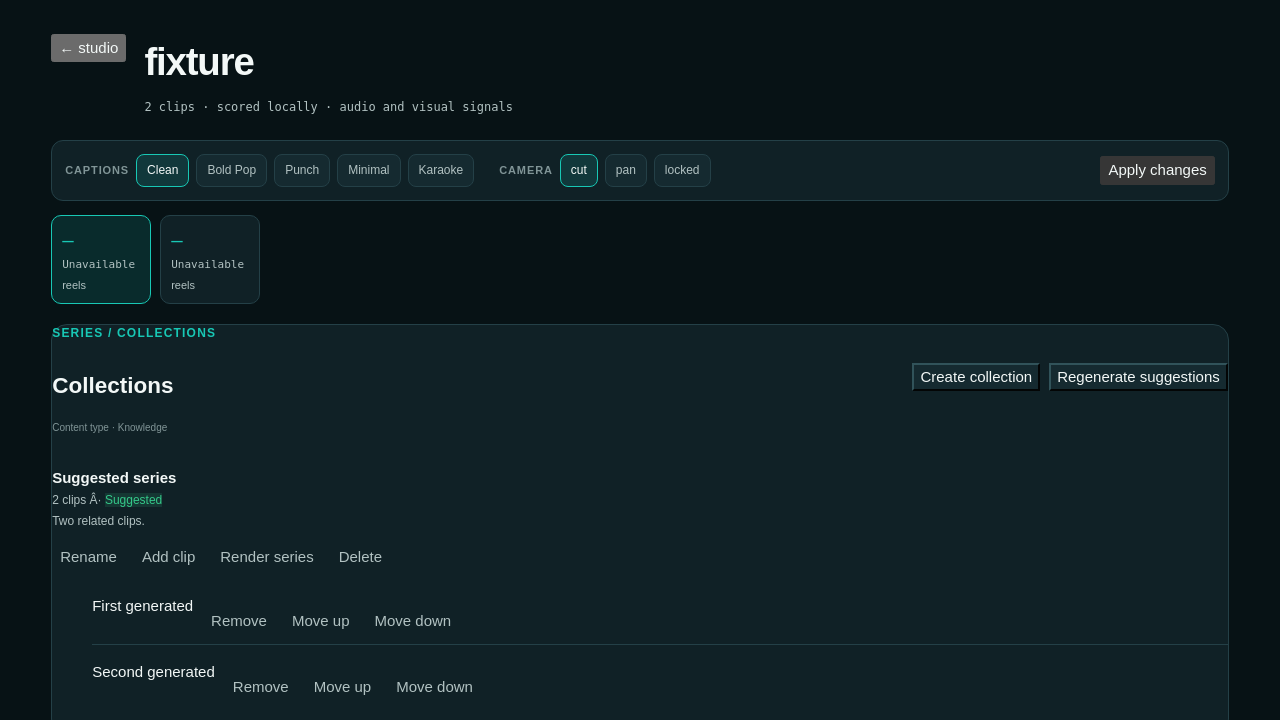
Test: Review media trust states › uses enriched creator clips when score clips are legacy
The image size is (1280, 720).
Click the button "Create collection": (976, 377) [912, 363, 1040, 391]
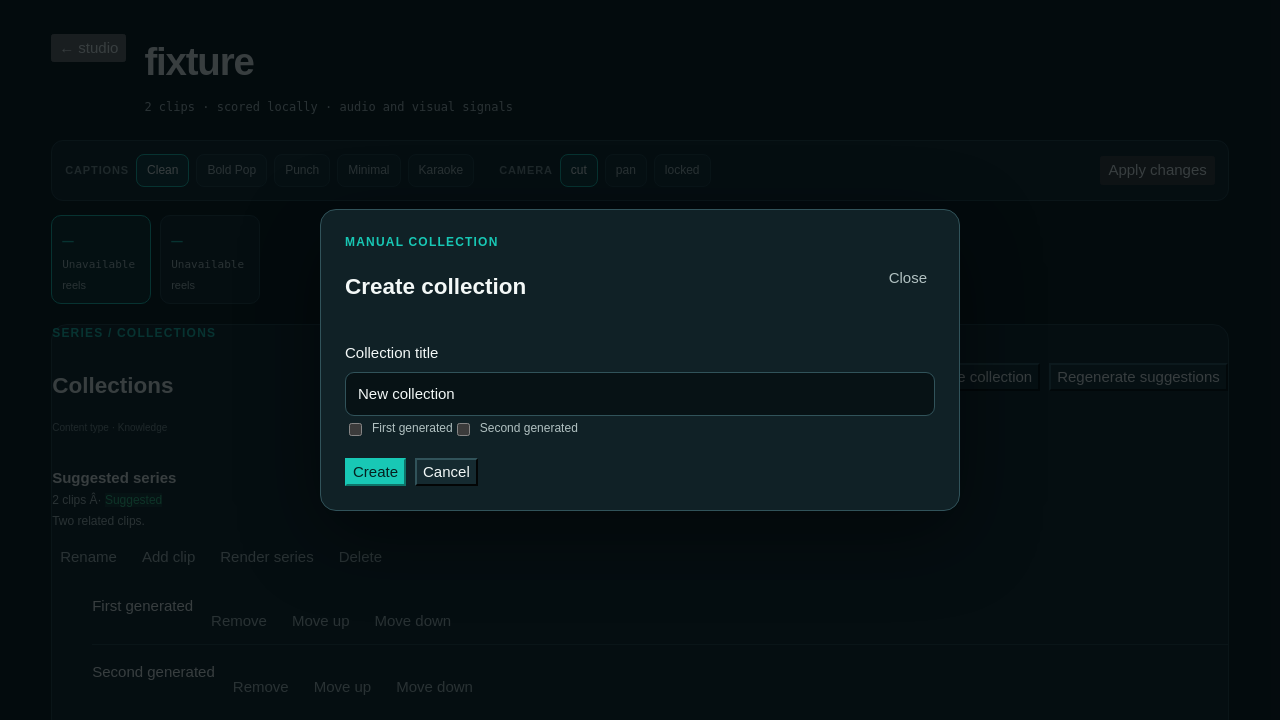
Now the checkbox labelled "First generated" is shown, box [349, 423, 362, 436]
Now the checkbox labelled "Second generated" is shown, box [457, 423, 470, 436]
